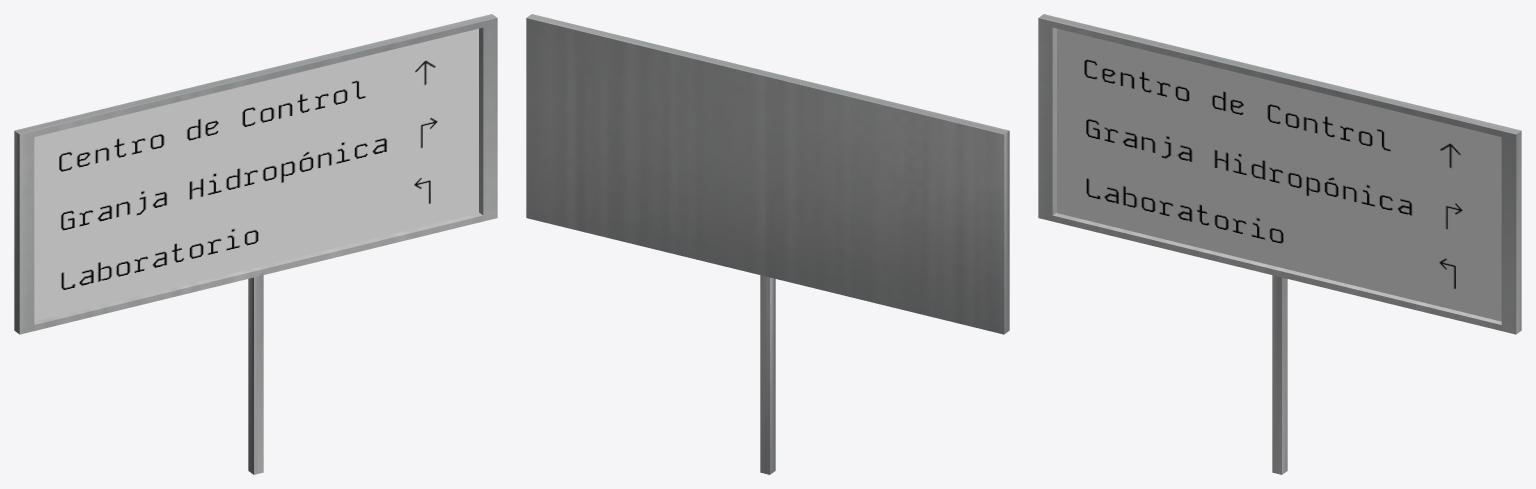
The model's file is instruccion-2.fbx.
3 views of the same model, side by side, from view 1: azimuth 30°, elevation 25°; view 2: azimuth 150°, elevation 25°; view 3: azimuth 330°, elevation 25° (orthographic).
Parts seen in each view (by area): view 1: Plane; view 2: Plane; view 3: Plane.
Boxes of the visible parts, x1,y1,x2,y2 form: Plane: (14,14,497,474); Plane: (526,14,1009,474); Plane: (1038,14,1521,474).
Size of the model in its own units: 500 by 397 by 10.
2 materials, 2 textured.
